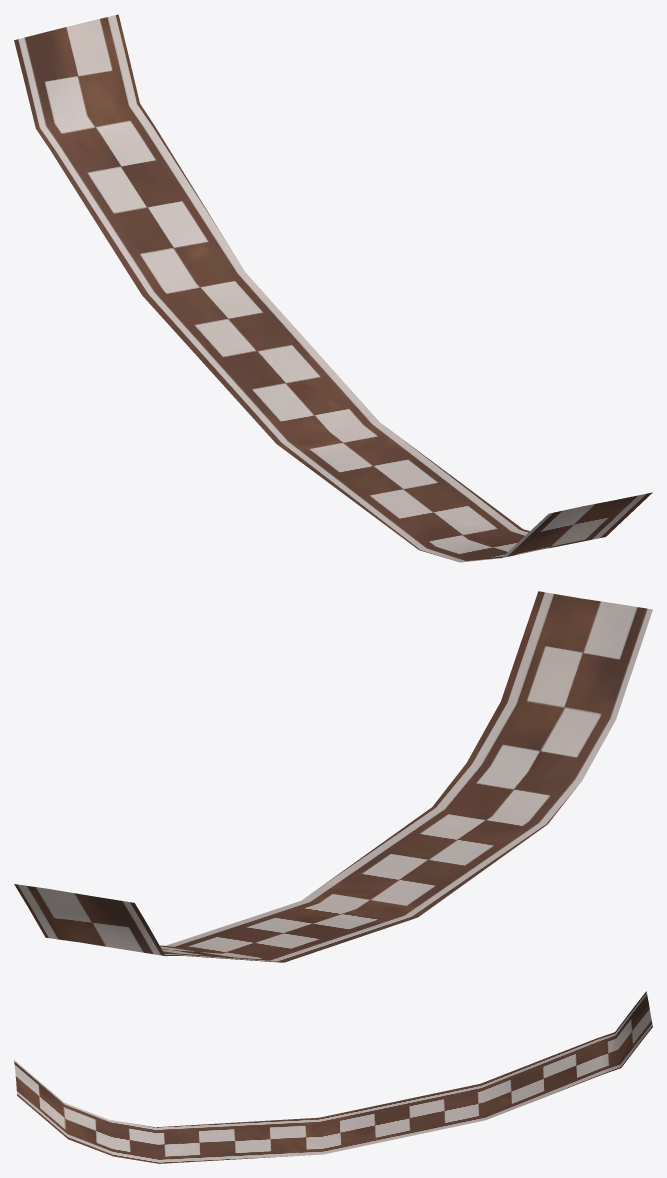
The model's file is finnishline.fbx.
The picture shows the model from 3 angles, top to bottom: view 1: azimuth 30°, elevation 25°; view 2: azimuth 150°, elevation 25°; view 3: azimuth 270°, elevation 25°; orthographic projection. The views are drawn at different scales.
Visible parts, largest first — view 1: polySurface2; view 2: polySurface2; view 3: polySurface2.
Part boxes in pixels (x1,y1,x2,y2): polySurface2: (14,14,652,562); polySurface2: (14,591,652,962); polySurface2: (14,991,652,1163).
Bounding box in the file's own units: 0.1643 × 0.2647 × 1.1.
